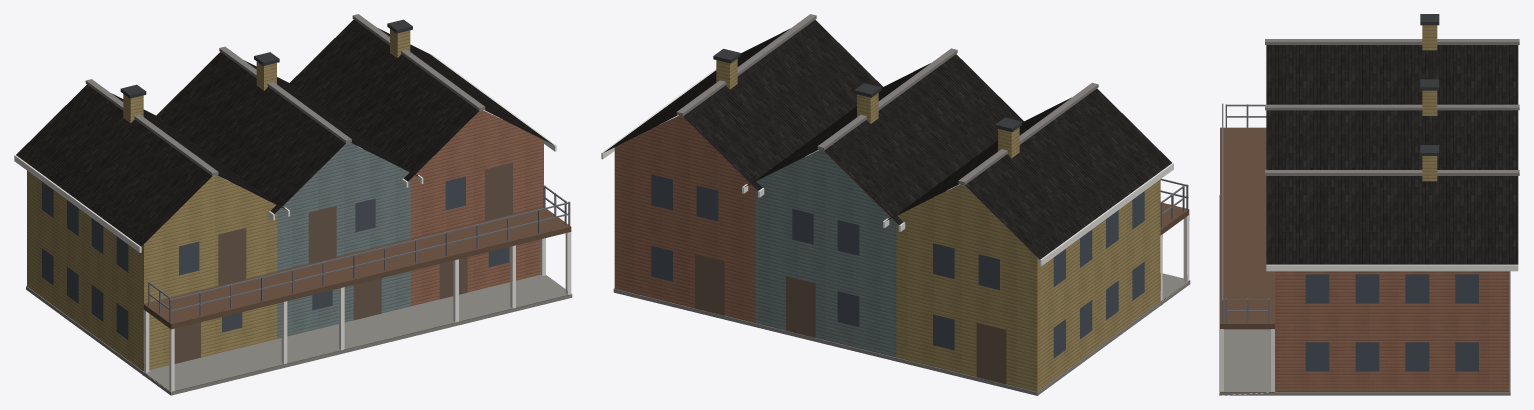
File: mh-worker-row.zfix-v22.lod1.glb
3 views of the same model, side by side, from view 1: azimuth 30°, elevation 25°; view 2: azimuth 150°, elevation 25°; view 3: azimuth 270°, elevation 25° (orthographic). The views are drawn at different scales.
Parts seen in each view (by area): view 1: mh-worker-row; view 2: mh-worker-row; view 3: mh-worker-row.
Part boxes in pixels (x1,y1,x2,y2): mh-worker-row: (14,14,572,395); mh-worker-row: (601,14,1190,395); mh-worker-row: (1219,14,1519,395).
Bounding box in the file's own units: 19.38 × 9.45 × 12.03.
3 materials, 2 textured.
